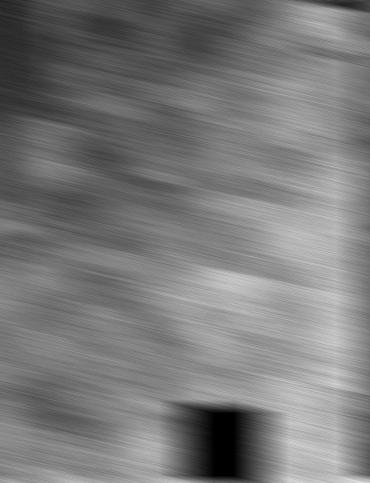Airbag: (0, 0, 370, 482), (356, 0, 370, 482), (0, 479, 369, 483), (357, 480, 370, 483)
